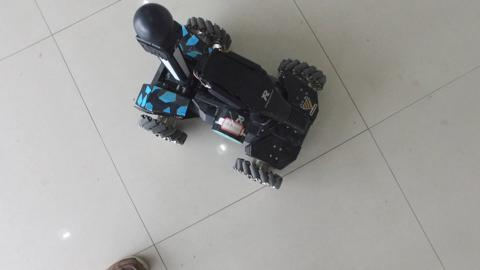chariot: (125, 5, 319, 192)
